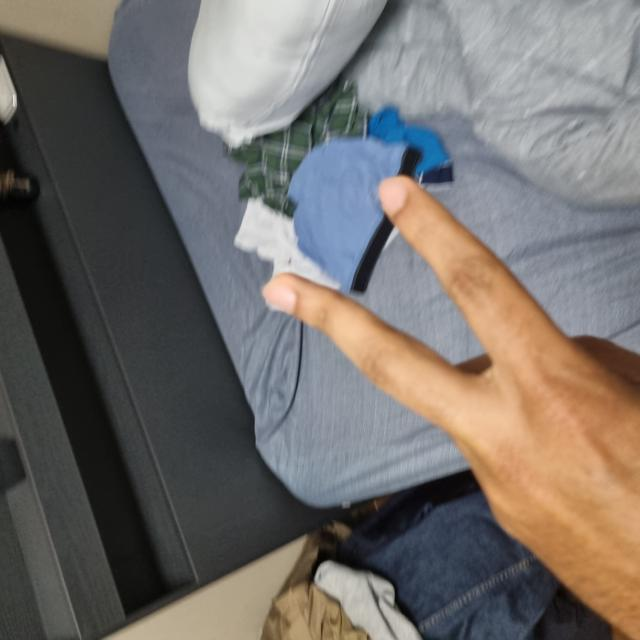Scissors: (0, 265, 459, 638)
